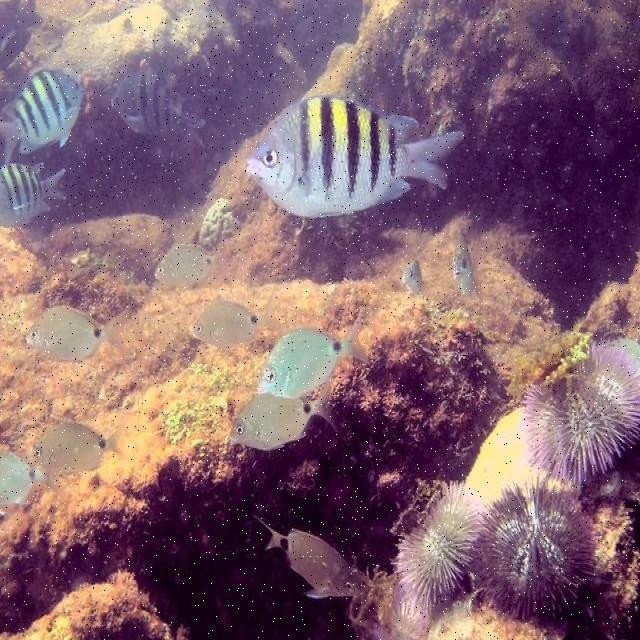fish: (237, 101, 464, 221), (259, 306, 368, 397), (1, 66, 86, 168), (225, 377, 339, 451), (259, 519, 365, 598), (105, 72, 208, 147), (23, 305, 136, 358), (188, 289, 286, 350), (30, 423, 122, 478), (150, 243, 219, 288), (454, 229, 485, 305), (399, 260, 425, 295)
reefs: (391, 479, 597, 620), (523, 345, 634, 493)
